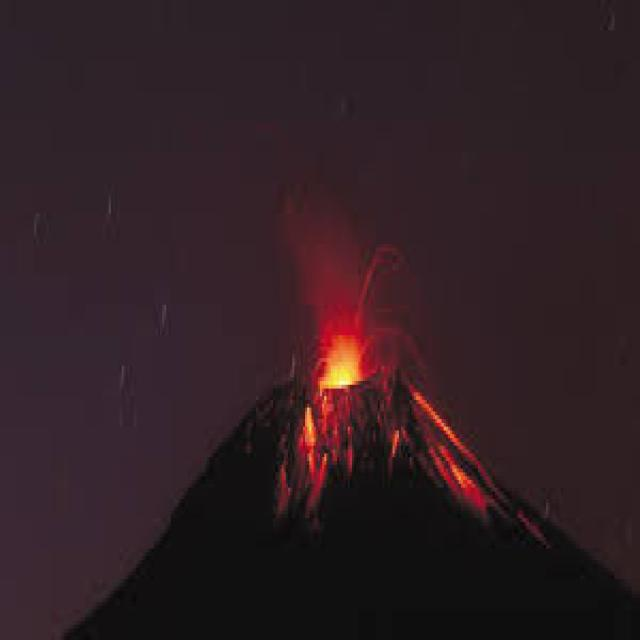explosion: (214, 124, 515, 603)
